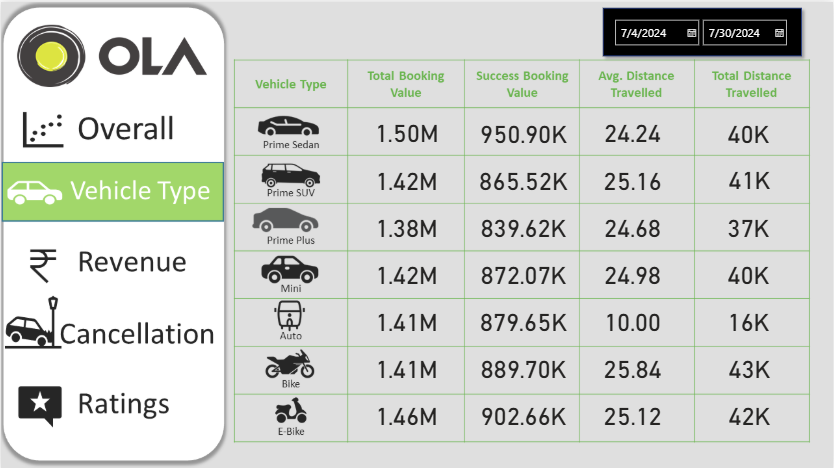

The page's visual inventory and layout, read from the dashboard file:
{"tool":"powerbi","page":{"name":"Vehicle Type","canvas":[1280,720],"ordinal":1},"visuals":[{"type":"actionButton","box":[0,360,341.6,90.7],"z":0},{"type":"actionButton","box":[0,450.7,341.6,103.8],"z":1000},{"type":"actionButton","box":[0,576.8,341.6,88],"z":2000},{"type":"actionButton","box":[0,153.7,341.6,95.9],"z":3000},{"type":"card","fields":{"Values":["Sum(July.Booking_Value)"]},"box":[534,163.8,180.3,71.6],"z":4000},{"type":"card","fields":{"Values":["Sum(July.Booking_Value)"]},"box":[534.2,236.9,179.7,72.2],"z":5000},{"type":"card","fields":{"Values":["Sum(July.Booking_Value)"]},"box":[534.2,309.1,179.7,72.2],"z":6000},{"type":"card","fields":{"Values":["Sum(July.Booking_Value)"]},"box":[534.2,381.3,179.7,72.2],"z":7000},{"type":"card","fields":{"Values":["Sum(July.Booking_Value)"]},"box":[534.2,453.5,179.7,72.2],"z":8000},{"type":"card","fields":{"Values":["Sum(July.Booking_Value)"]},"box":[534.2,525.8,179.7,72.2],"z":9000},{"type":"card","fields":{"Values":["Sum(July.Booking_Value)"]},"box":[534.2,598,179.7,72.2],"z":10000},{"type":"card","fields":{"Values":["Sum(July.Booking_Value)"]},"box":[713.9,164.6,179.7,72.2],"z":11000},{"type":"card","fields":{"Values":["Sum(July.Booking_Value)"]},"box":[713.9,236.9,179.7,72.2],"z":12000},{"type":"card","fields":{"Values":["Sum(July.Booking_Value)"]},"box":[713.9,309.1,179.7,72.2],"z":13000},{"type":"card","fields":{"Values":["Sum(July.Booking_Value)"]},"box":[713.9,381.3,179.7,72.2],"z":14000},{"type":"card","fields":{"Values":["Sum(July.Booking_Value)"]},"box":[713.9,453.5,179.7,72.2],"z":15000},{"type":"card","fields":{"Values":["Sum(July.Booking_Value)"]},"box":[713.9,525.8,179.7,72.2],"z":16000},{"type":"card","fields":{"Values":["Sum(July.Booking_Value)"]},"box":[713.9,598,179.7,72.2],"z":17000},{"type":"card","fields":{"Values":["Avg(July.Ride_Distance)"]},"box":[881.9,162.9,179.7,72.2],"z":18000},{"type":"card","fields":{"Values":["Avg(July.Ride_Distance)"]},"box":[881.9,236.9,179.7,72.2],"z":19000},{"type":"card","fields":{"Values":["Avg(July.Ride_Distance)"]},"box":[881.9,309.1,179.7,72.2],"z":20000},{"type":"card","fields":{"Values":["Avg(July.Ride_Distance)"]},"box":[881.9,453.5,179.7,72.2],"z":21000},{"type":"card","fields":{"Values":["Avg(July.Ride_Distance)"]},"box":[881.9,381.3,179.7,72.2],"z":22000},{"type":"card","fields":{"Values":["Avg(July.Ride_Distance)"]},"box":[881.9,525.8,179.7,72.2],"z":23000},{"type":"card","fields":{"Values":["Avg(July.Ride_Distance)"]},"box":[881.9,598,179.7,72.2],"z":24000},{"type":"card","fields":{"Values":["Sum(July.Ride_Distance)"]},"box":[1059.9,164.6,179.7,72.2],"z":25000},{"type":"card","fields":{"Values":["Sum(July.Ride_Distance)"]},"box":[1061.6,235.2,179.7,72.2],"z":26000},{"type":"card","fields":{"Values":["Sum(July.Ride_Distance)"]},"box":[1059.9,309.1,179.7,72.2],"z":27000},{"type":"card","fields":{"Values":["Sum(July.Ride_Distance)"]},"box":[1059.9,381.3,179.7,72.2],"z":28000},{"type":"card","fields":{"Values":["Sum(July.Ride_Distance)"]},"box":[1059.9,453.5,179.7,72.2],"z":29000},{"type":"card","fields":{"Values":["Sum(July.Ride_Distance)"]},"box":[1061.6,598,179.7,72.2],"z":30000},{"type":"card","fields":{"Values":["Sum(July.Ride_Distance)"]},"box":[1061.6,525.8,179.7,72.2],"z":31000},{"type":"shape","box":[917.2,0,324.2,92.4],"z":32000},{"type":"slicer","title":"Date","fields":{"Values":["July.Date"]},"box":[917.2,18.5,322.5,119.3],"z":33000}]}

Visuals, with their boxes in screenshot pixels (x1, y1, x2, y2), scaled from the page's 1280x720 canvas onto the 834x468 screenshot:
actionButton: x1=0 y1=234 x2=223 y2=293
actionButton: x1=0 y1=293 x2=223 y2=360
actionButton: x1=0 y1=375 x2=223 y2=432
actionButton: x1=0 y1=100 x2=223 y2=162
card - Sum(July.Booking_Value): x1=348 y1=106 x2=465 y2=153
card - Sum(July.Booking_Value): x1=348 y1=154 x2=465 y2=201
card - Sum(July.Booking_Value): x1=348 y1=201 x2=465 y2=248
card - Sum(July.Booking_Value): x1=348 y1=248 x2=465 y2=295
card - Sum(July.Booking_Value): x1=348 y1=295 x2=465 y2=342
card - Sum(July.Booking_Value): x1=348 y1=342 x2=465 y2=389
card - Sum(July.Booking_Value): x1=348 y1=389 x2=465 y2=436
card - Sum(July.Booking_Value): x1=465 y1=107 x2=582 y2=154
card - Sum(July.Booking_Value): x1=465 y1=154 x2=582 y2=201
card - Sum(July.Booking_Value): x1=465 y1=201 x2=582 y2=248
card - Sum(July.Booking_Value): x1=465 y1=248 x2=582 y2=295
card - Sum(July.Booking_Value): x1=465 y1=295 x2=582 y2=342
card - Sum(July.Booking_Value): x1=465 y1=342 x2=582 y2=389
card - Sum(July.Booking_Value): x1=465 y1=389 x2=582 y2=436
card - Avg(July.Ride_Distance): x1=575 y1=106 x2=692 y2=153
card - Avg(July.Ride_Distance): x1=575 y1=154 x2=692 y2=201
card - Avg(July.Ride_Distance): x1=575 y1=201 x2=692 y2=248
card - Avg(July.Ride_Distance): x1=575 y1=295 x2=692 y2=342
card - Avg(July.Ride_Distance): x1=575 y1=248 x2=692 y2=295
card - Avg(July.Ride_Distance): x1=575 y1=342 x2=692 y2=389
card - Avg(July.Ride_Distance): x1=575 y1=389 x2=692 y2=436
card - Sum(July.Ride_Distance): x1=691 y1=107 x2=808 y2=154
card - Sum(July.Ride_Distance): x1=692 y1=153 x2=809 y2=200
card - Sum(July.Ride_Distance): x1=691 y1=201 x2=808 y2=248
card - Sum(July.Ride_Distance): x1=691 y1=248 x2=808 y2=295
card - Sum(July.Ride_Distance): x1=691 y1=295 x2=808 y2=342
card - Sum(July.Ride_Distance): x1=692 y1=389 x2=809 y2=436
card - Sum(July.Ride_Distance): x1=692 y1=342 x2=809 y2=389
shape: x1=598 y1=0 x2=809 y2=60
"Date" slicer: x1=598 y1=12 x2=808 y2=90
